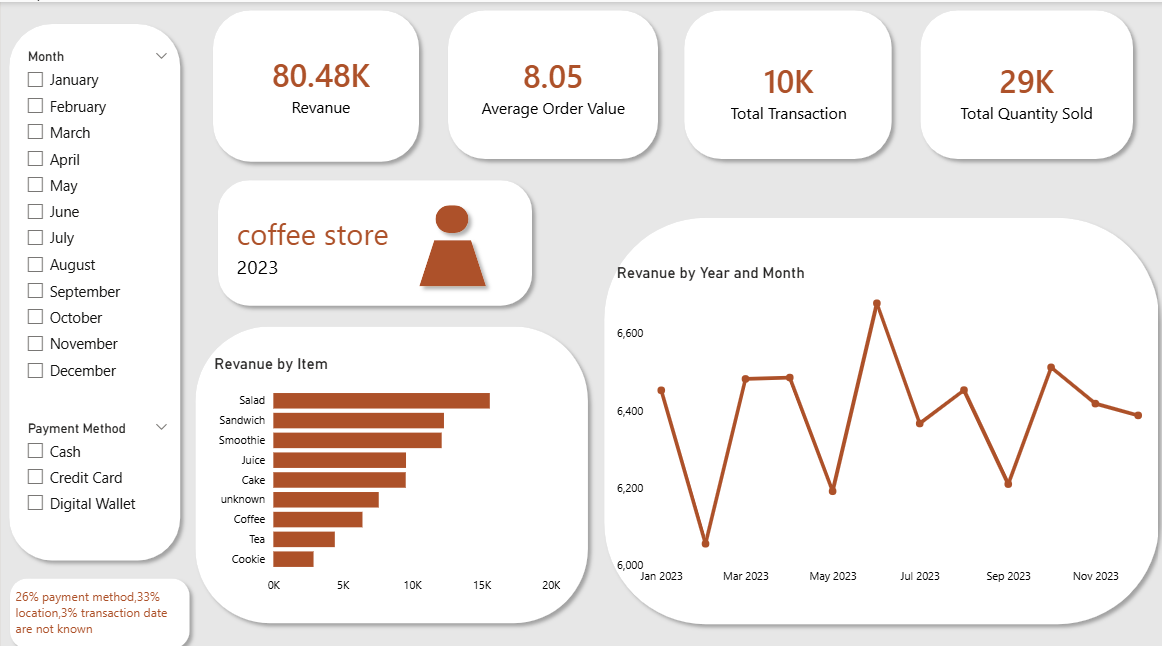

What the dashboard file says about the page in this screenshot:
{"tool":"powerbi","page":{"name":"Page 1","canvas":[1280,720],"ordinal":0},"visuals":[{"type":"shape","box":[0,622.9,217.1,97.1],"z":0},{"type":"shape","box":[741.4,0,245.7,181.4],"z":1000},{"type":"shape","box":[1000,0,251.4,181.4],"z":2000},{"type":"shape","box":[224.3,0,244.3,184.3],"z":3000},{"type":"shape","box":[481.4,0,248.6,181.4],"z":4000},{"type":"cardVisual","fields":{"Data":["dirty_cafe_sales1.revanue"]},"box":[228.6,0,244.3,181.4],"z":5000},{"type":"cardVisual","fields":{"Data":["dirty_cafe_sales1.t transaction"]},"box":[735.7,0,258.6,195.7],"z":6000},{"type":"cardVisual","fields":{"Data":["dirty_cafe_sales1.t q sold"]},"box":[1000,0,251.4,195.7],"z":7000},{"type":"shape","box":[0,15.7,205.7,607.1],"z":8000},{"type":"cardVisual","fields":{"Data":["dirty_cafe_sales1.aov"]},"box":[475.7,0,260,184.3],"z":9000},{"type":"slicer","fields":{"Values":["dirty_cafe_sales1.Payment Method"]},"box":[16.4,454.3,178.6,131.4],"z":10000},{"type":"shape","box":[652.9,227.1,627.1,464.3],"z":11000},{"type":"lineChart","fields":{"Y":["dirty_cafe_sales1.revanue"],"Category":["dirty_cafe_sales1.Transaction Date.Variation.Date Hierarchy.Year","dirty_cafe_sales1.Transaction Date.Variation.Date Hierarchy.Month"]},"box":[671.4,287.1,608.6,361.4],"z":12000},{"type":"shape","box":[203.9,347.5,448.8,343.8],"z":13000},{"type":"barChart","fields":{"Category":["dirty_cafe_sales1.Item"],"Y":["dirty_cafe_sales1.revanue"]},"box":[229.2,387.3,389.7,271.4],"z":14000},{"type":"shape","box":[228.6,187.1,362.9,155.7],"z":15000},{"type":"textbox","box":[254.3,227.1,241.4,84.3],"z":16000},{"type":"shape","box":[450,252.9,91.4,68.6],"z":17000},{"type":"shape","box":[468.6,214.3,54.3,48.6],"z":18000},{"type":"slicer","fields":{"Values":["dirty_cafe_sales1.Transaction Date.Variation.Date Hierarchy.Month"]},"box":[16.4,47.1,178.6,382.9],"z":19000},{"type":"textbox","box":[11.4,638.6,205.7,65.7],"z":20000}]}

Visuals, with their boxes in screenshot pixels (x1, y1, x2, y2), scaled from the page's 1280x720 canvas onto the 1162x646 screenshot:
shape: left=0, top=559, right=197, bottom=645
shape: left=673, top=0, right=896, bottom=163
shape: left=908, top=0, right=1136, bottom=163
shape: left=204, top=0, right=425, bottom=165
shape: left=437, top=0, right=663, bottom=163
cardVisual - dirty_cafe_sales1.revanue: left=208, top=0, right=429, bottom=163
cardVisual - dirty_cafe_sales1.t transaction: left=668, top=0, right=903, bottom=176
cardVisual - dirty_cafe_sales1.t q sold: left=908, top=0, right=1136, bottom=176
shape: left=0, top=14, right=187, bottom=559
cardVisual - dirty_cafe_sales1.aov: left=432, top=0, right=668, bottom=165
slicer - dirty_cafe_sales1.Payment Method: left=15, top=408, right=177, bottom=526
shape: left=593, top=204, right=1161, bottom=620
lineChart - dirty_cafe_sales1.revanue x dirty_cafe_sales1.Transaction Date.Variation.Date Hierarchy.Year: left=610, top=258, right=1161, bottom=582
shape: left=185, top=312, right=593, bottom=620
barChart - dirty_cafe_sales1.Item x dirty_cafe_sales1.revanue: left=208, top=347, right=562, bottom=591
shape: left=208, top=168, right=537, bottom=308
textbox: left=231, top=204, right=450, bottom=279
shape: left=409, top=227, right=491, bottom=288
shape: left=425, top=192, right=475, bottom=236
slicer - dirty_cafe_sales1.Transaction Date.Variation.Date Hierarchy.Month: left=15, top=42, right=177, bottom=386
textbox: left=10, top=573, right=197, bottom=632
